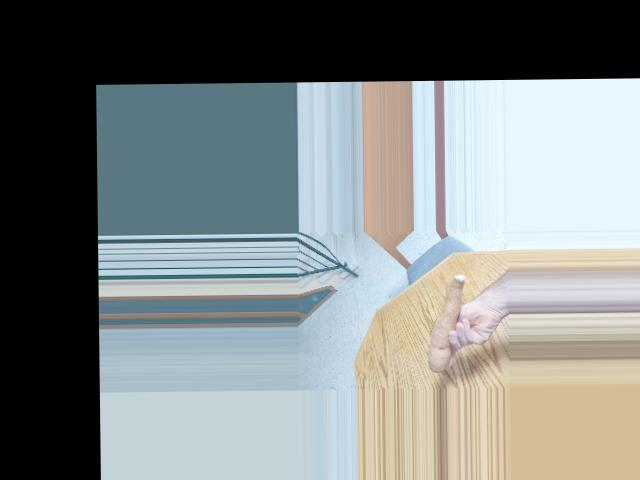sweet_potato: (423, 272, 470, 370)
